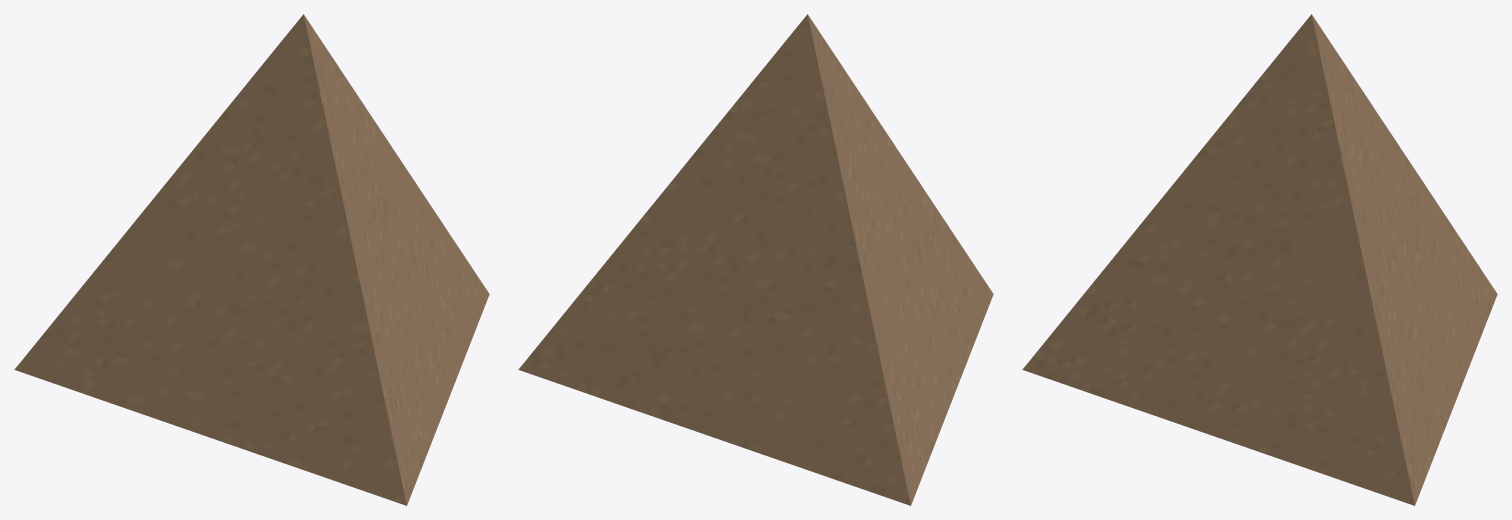
File: art_pyramid.glb
3 renders of one model, left to right at view 1: azimuth 30°, elevation 25°; view 2: azimuth 150°, elevation 25°; view 3: azimuth 270°, elevation 25°, orthographic.
Visible parts, largest first — view 1: block_regular tetrahedron; view 2: block_regular tetrahedron; view 3: block_regular tetrahedron.
Boxes of the visible parts, x1,y1,x2,y2 form: block_regular tetrahedron: [14, 14, 489, 505]; block_regular tetrahedron: [518, 14, 993, 505]; block_regular tetrahedron: [1022, 14, 1497, 505].
Bounding box in the file's own units: 0.1519 × 0.1257 × 0.144.
Materials: 1 (1 with a texture image).
